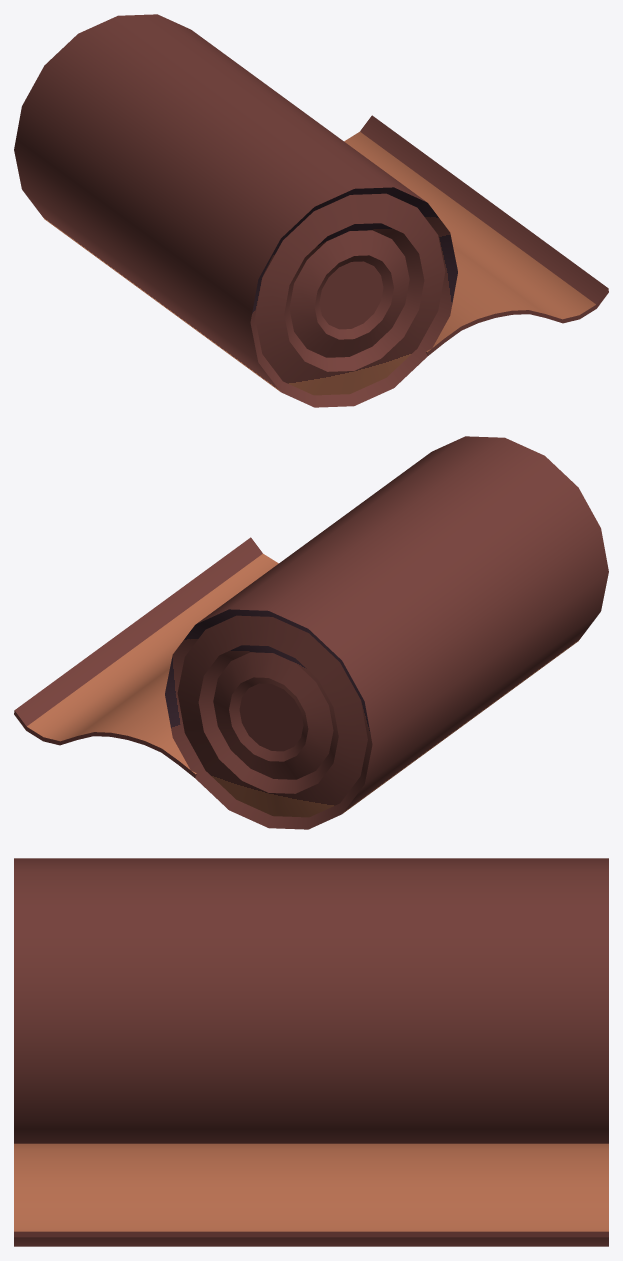
Rendered from Refinado_Carton.fbx.
3 renders of one model, top to bottom at view 1: azimuth 30°, elevation 25°; view 2: azimuth 150°, elevation 25°; view 3: azimuth 270°, elevation 25°, orthographic. The views are drawn at different scales.
Parts seen in each view (by area): view 1: Refinado_Carton; view 2: Refinado_Carton; view 3: Refinado_Carton.
Boxes of the visible parts, x1,y1,x2,y2 form: Refinado_Carton: (14,14,608,407); Refinado_Carton: (14,436,608,829); Refinado_Carton: (14,858,608,1246).
Bounding box in the file's own units: 196 × 114 × 224.
